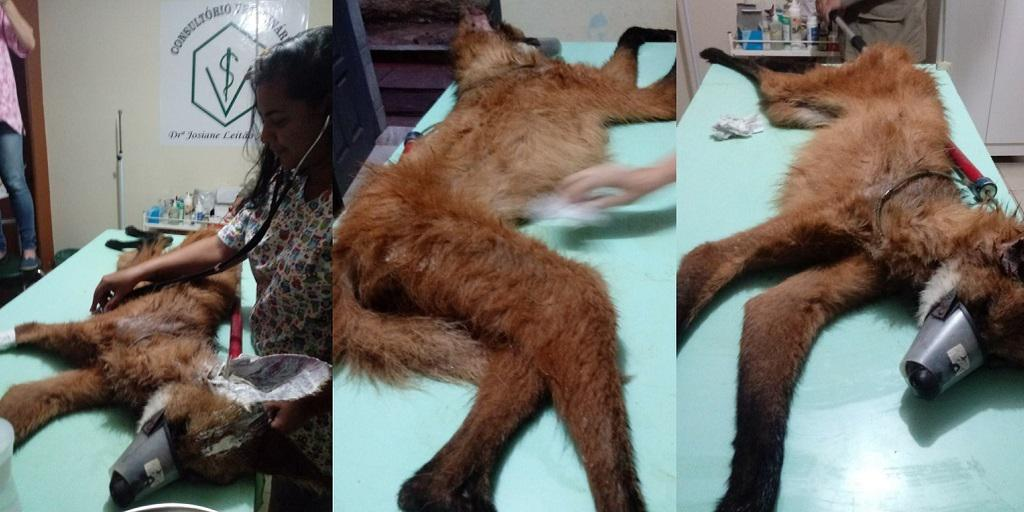LoboGuara: (345, 13, 670, 500), (693, 37, 1012, 472), (8, 214, 296, 496)
